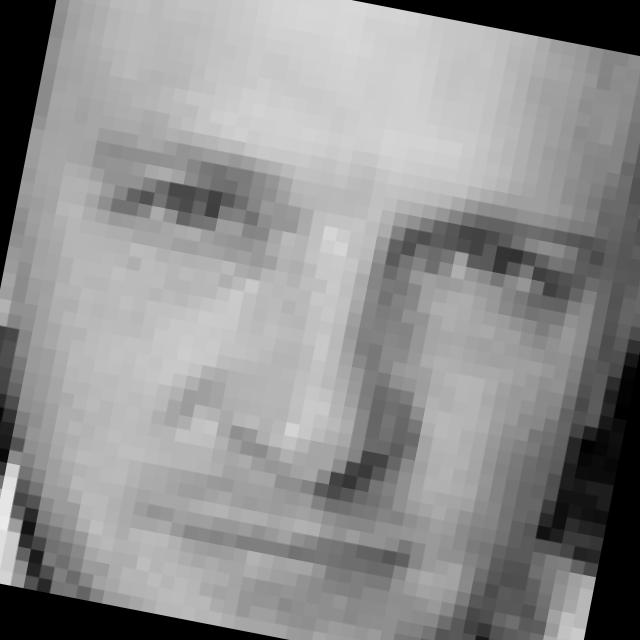neutral: (4, 117, 606, 640)
